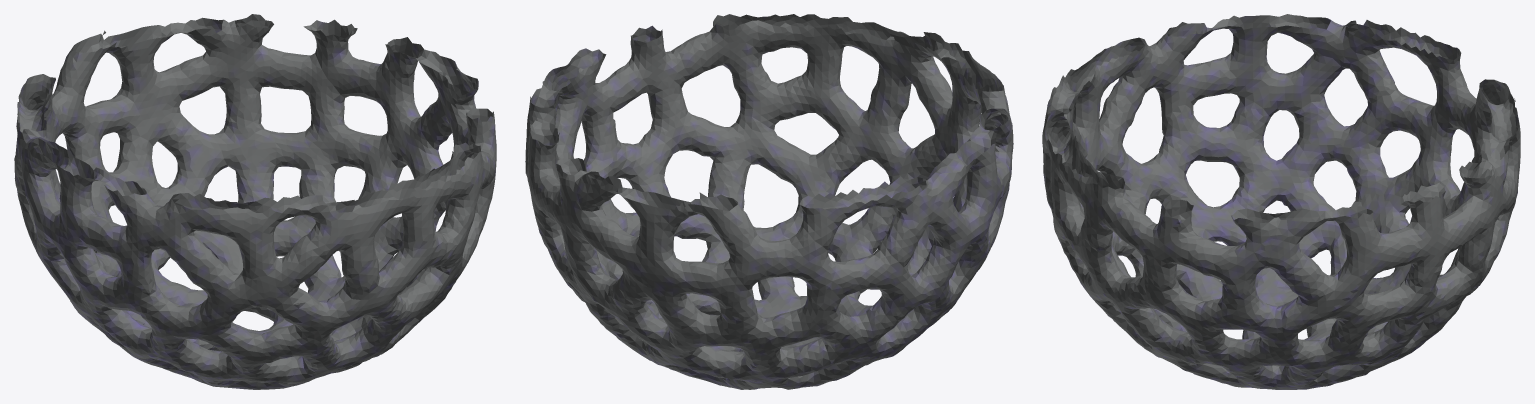
3 views of the same model, side by side, from view 1: azimuth 30°, elevation 25°; view 2: azimuth 150°, elevation 25°; view 3: azimuth 270°, elevation 25° (orthographic). The views are drawn at different scales.
Size of the model in its own units: 1.97 by 1.17 by 1.98.
